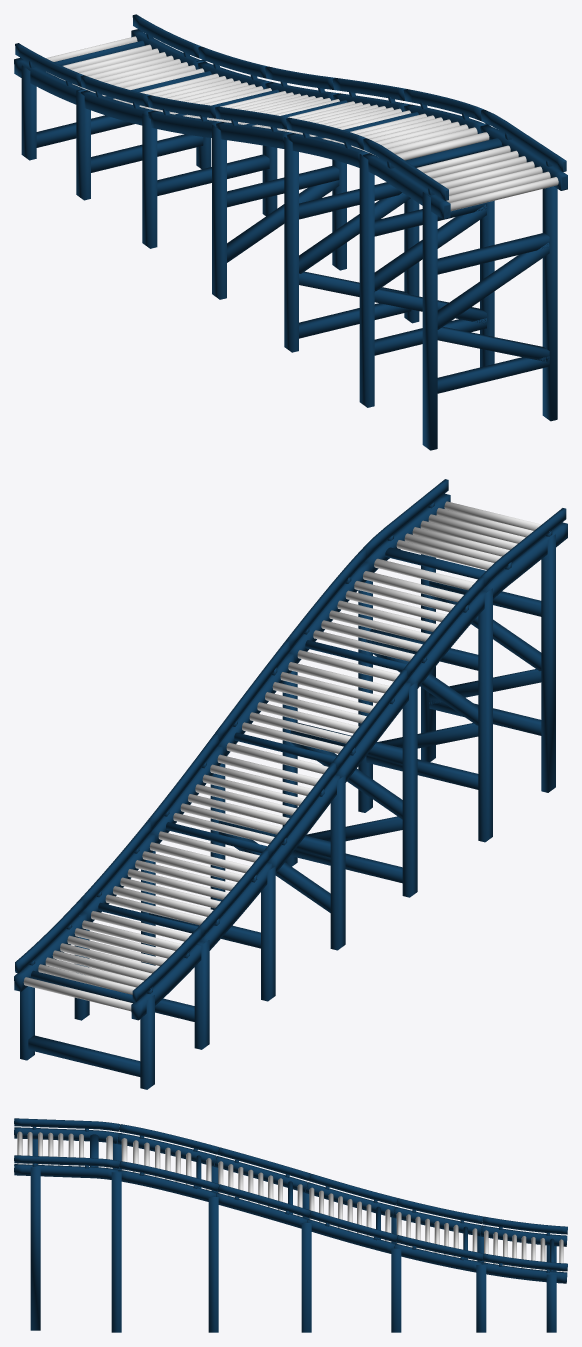
Rendered from Inclined conveyor.glb.
3 renders of one model, top to bottom at view 1: azimuth 30°, elevation 25°; view 2: azimuth 150°, elevation 25°; view 3: azimuth 270°, elevation 25°, orthographic. The views are drawn at different scales.
Visible parts, largest first — view 1: Belt.383, Belt.087, Belt.384, Belt.113, Belt.290, Belt.363, Belt.284; view 2: Belt.087, Belt.383, Belt.113, Belt.384, Belt.284, Belt.363; view 3: Belt.087, Belt.383.
Boxes of the visible parts, x1=… form: Belt.383: x1=21, y1=60, x2=557, y2=450; Belt.087: x1=14, y1=14, x2=567, y2=219; Belt.384: x1=437, y1=242, x2=549, y2=329; Belt.113: x1=374, y1=204, x2=486, y2=291; Belt.290: x1=227, y1=165, x2=339, y2=207; Belt.363: x1=299, y1=182, x2=402, y2=219; Belt.284: x1=374, y1=202, x2=486, y2=236; Belt.087: x1=14, y1=479, x2=567, y2=1020; Belt.383: x1=20, y1=534, x2=555, y2=1089; Belt.113: x1=367, y1=640, x2=478, y2=725; Belt.384: x1=430, y1=585, x2=541, y2=671; Belt.284: x1=366, y1=629, x2=478, y2=670; Belt.363: x1=290, y1=722, x2=402, y2=763; Belt.087: x1=14, y1=1118, x2=567, y2=1283; Belt.383: x1=30, y1=1128, x2=556, y2=1332.
Bounding box in the file's own units: 8.04 × 16.45 × 47.15.
